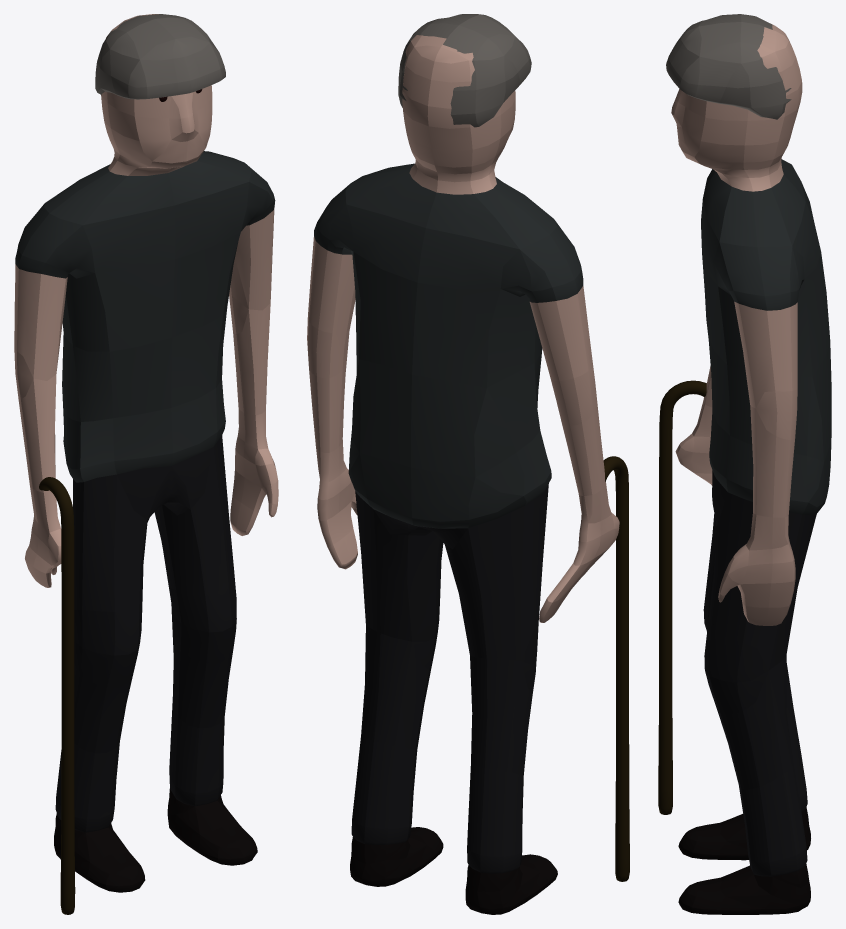
Rendered from pessoa_idoso.glb.
The picture shows the model from 3 angles, left to right: view 1: azimuth 30°, elevation 25°; view 2: azimuth 150°, elevation 25°; view 3: azimuth 270°, elevation 25°; orthographic projection.
Parts seen in each view (by area): view 1: pessoa_idoso; view 2: pessoa_idoso; view 3: pessoa_idoso.
Part boxes in pixels (left/top/right/bottom): pessoa_idoso: left=14, top=14, right=278, bottom=914; pessoa_idoso: left=307, top=14, right=629, bottom=914; pessoa_idoso: left=658, top=14, right=831, bottom=914.
Bounding box in the file's own units: 0.5436 × 1.66 × 0.3048.
1 material, 1 textured.
